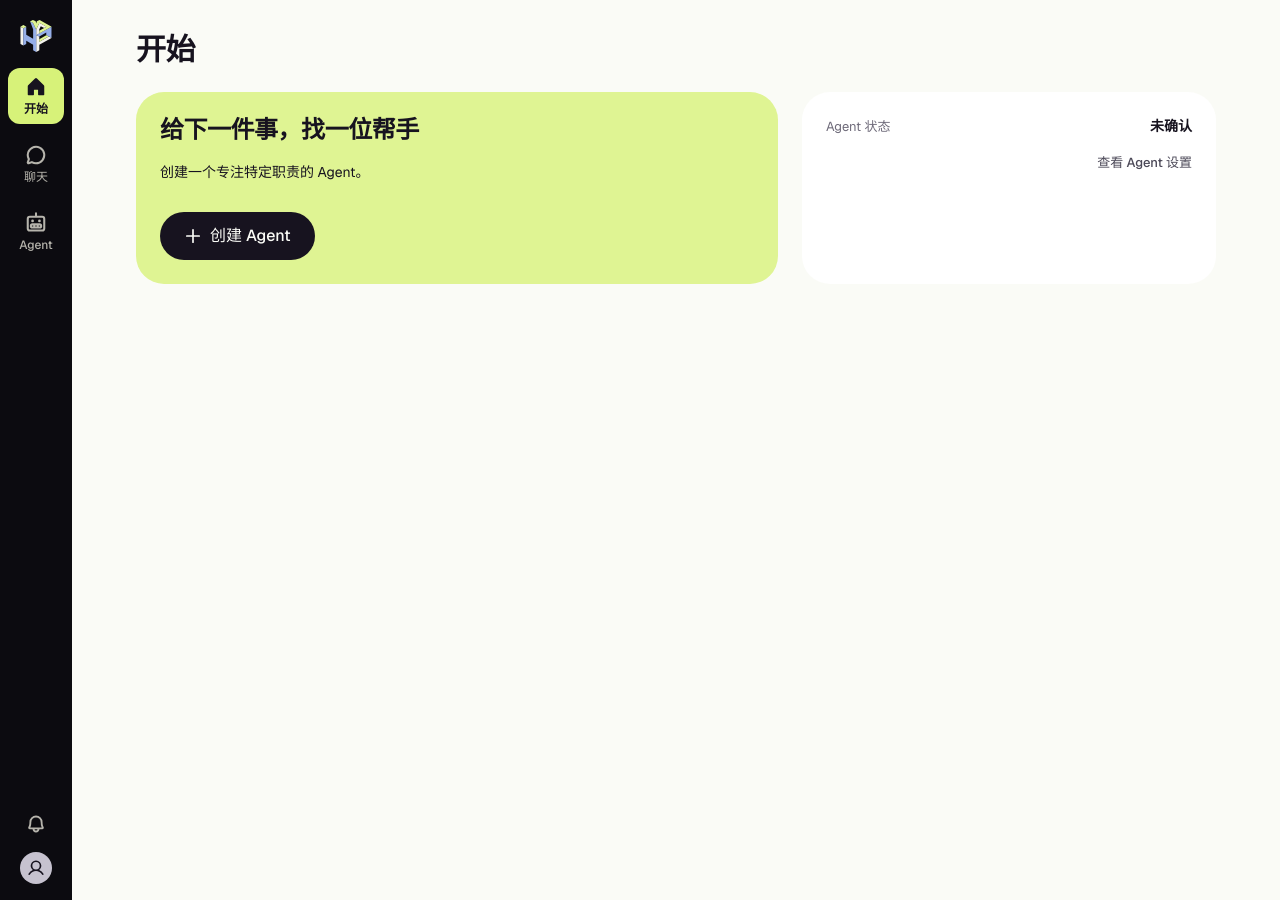
agents page create/stop wiring (implG2) › create opens the new Agent configuration after reloading the directory
The width and height of the screenshot is (1280, 900).
Click the button "Agent". click: (36, 232)
box: top-left (8, 204), bottom-right (64, 260)
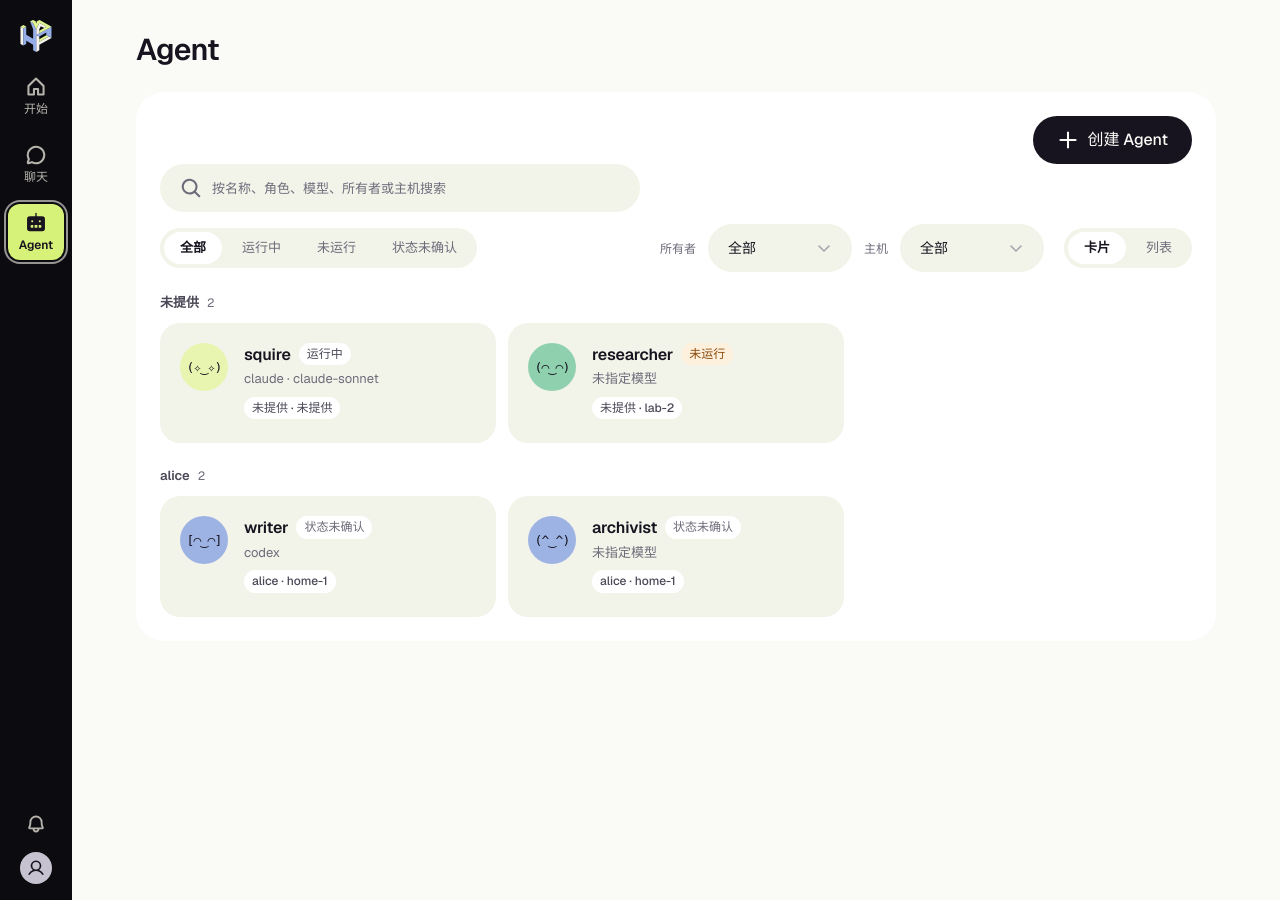
Check: the button with test id "contact-squire" is shown, box top-left (160, 323), bottom-right (496, 443)
Click the button "创建 Agent". click: (1113, 140)
box: top-left (1033, 116), bottom-right (1192, 164)
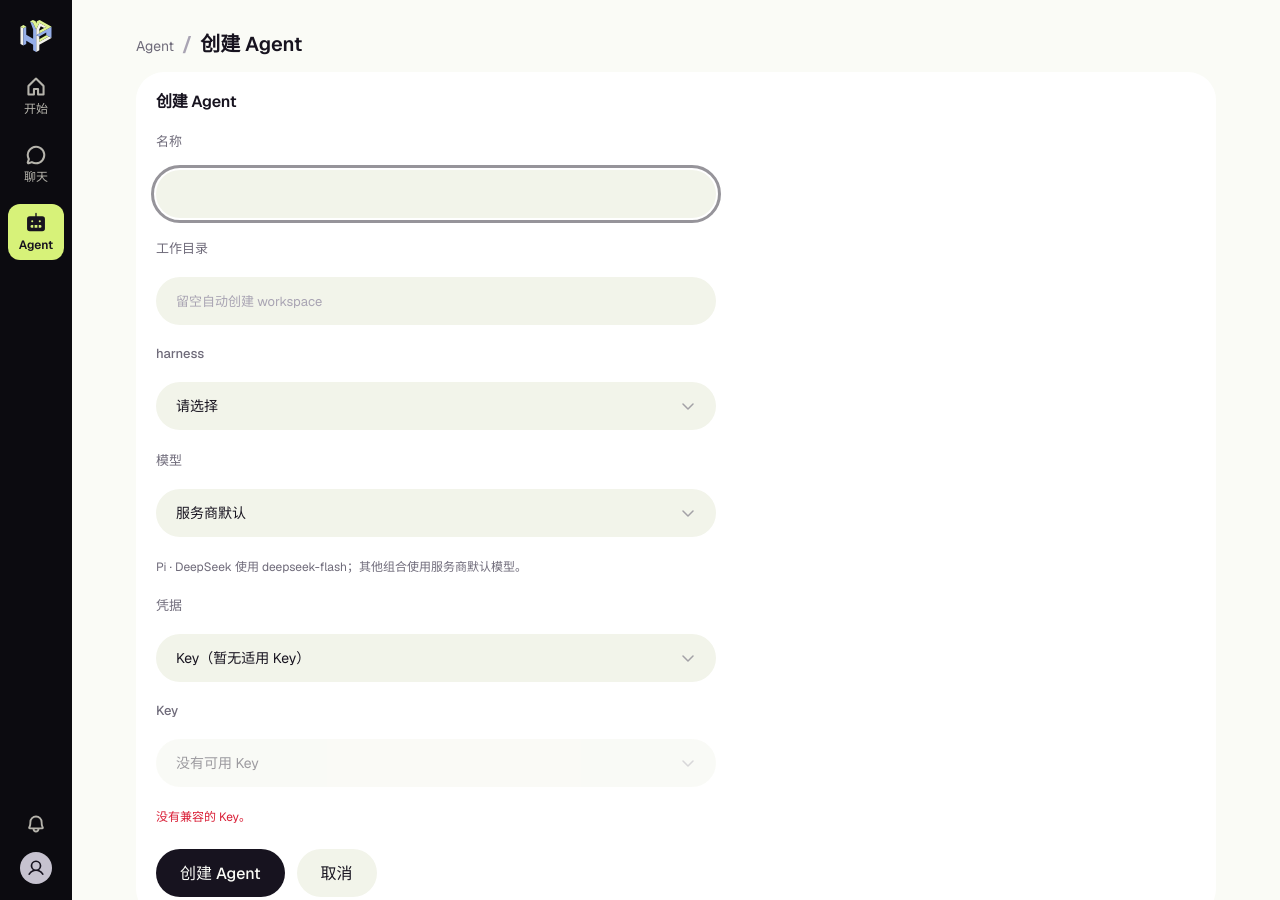
Type "worker" into the field labelled "名称". click: (436, 194)
box: top-left (156, 170), bottom-right (716, 218)
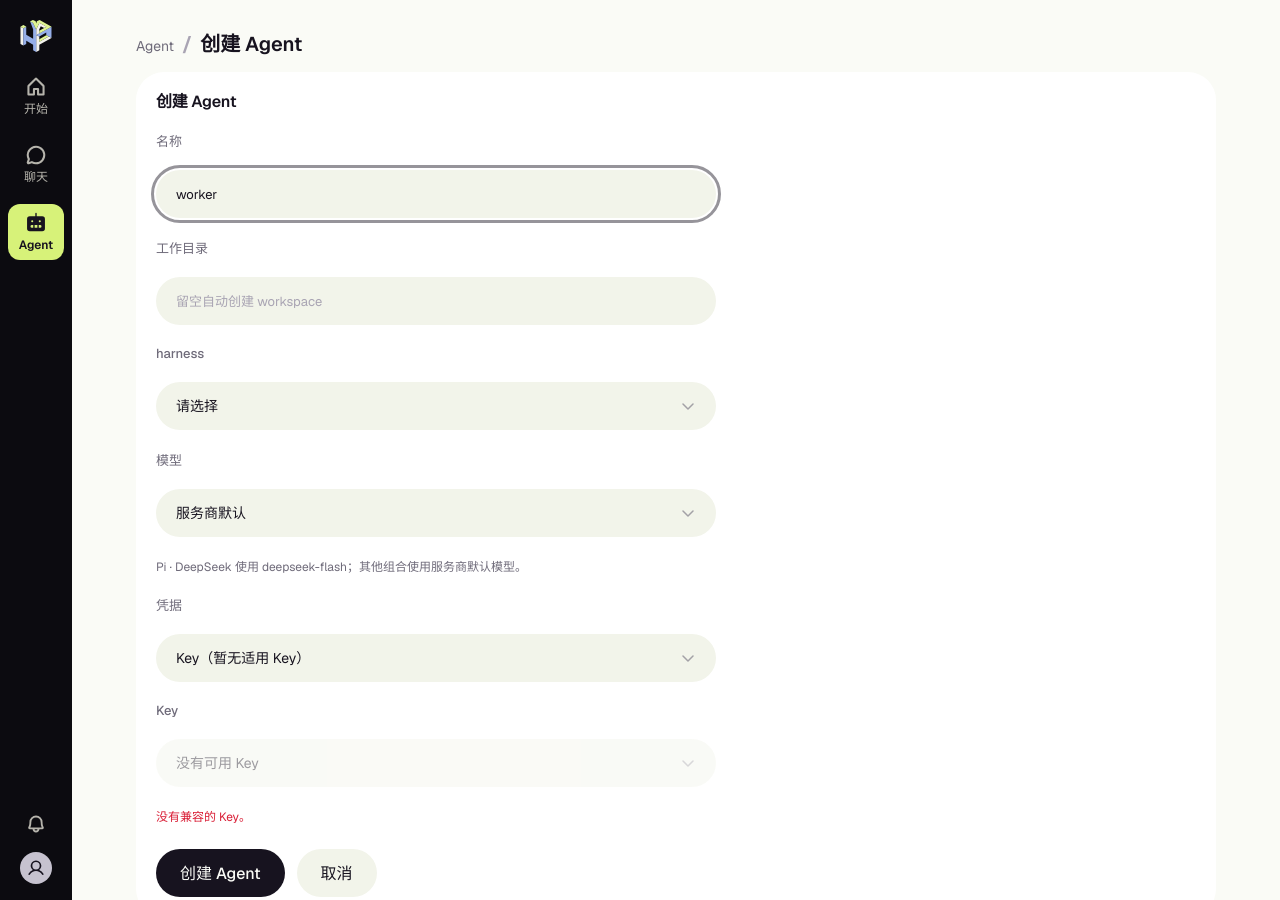
Click the dropdown named "harness". click: (197, 406)
box: top-left (156, 382), bottom-right (716, 430)
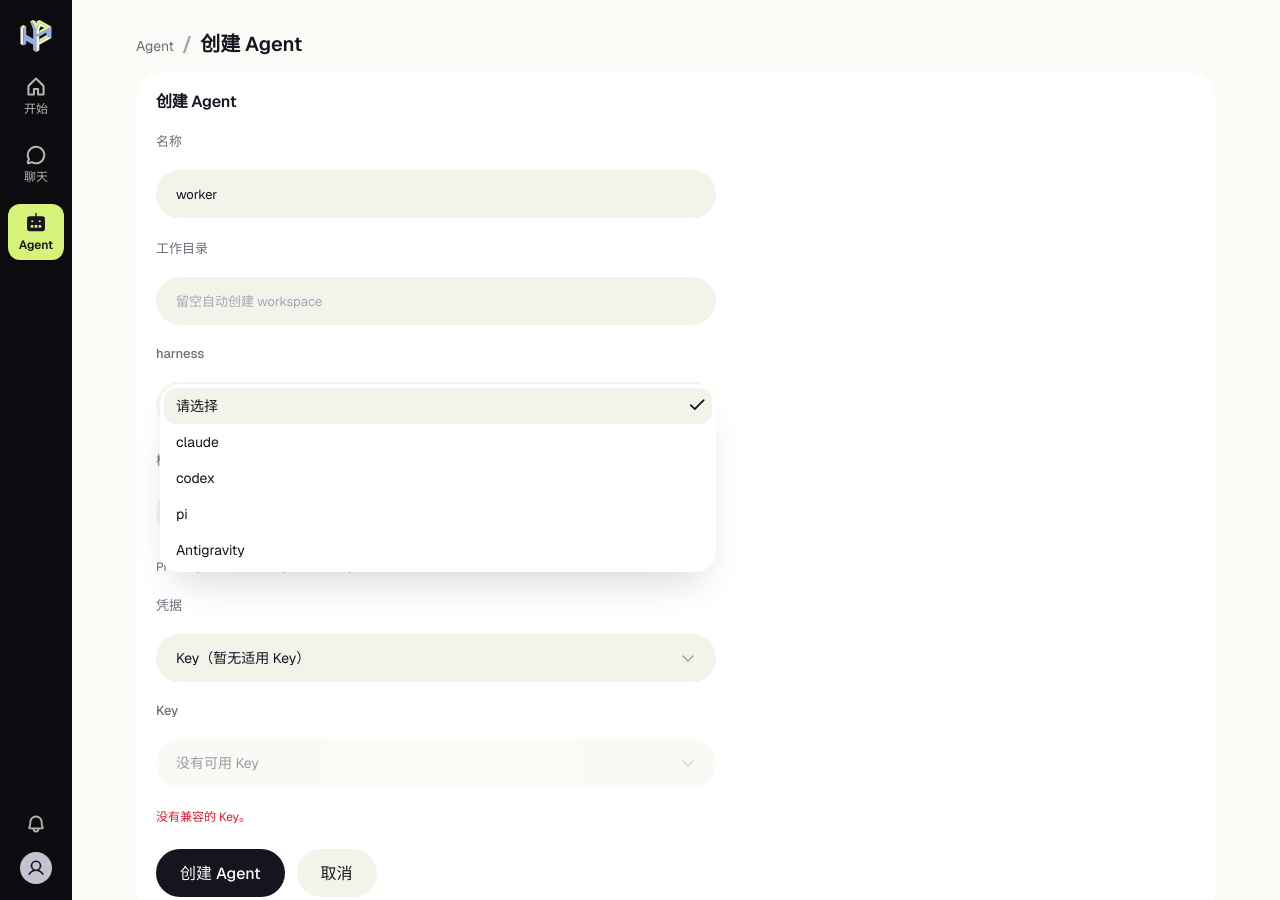
Click the option "claude". click: (197, 442)
box: top-left (176, 433), bottom-right (219, 451)
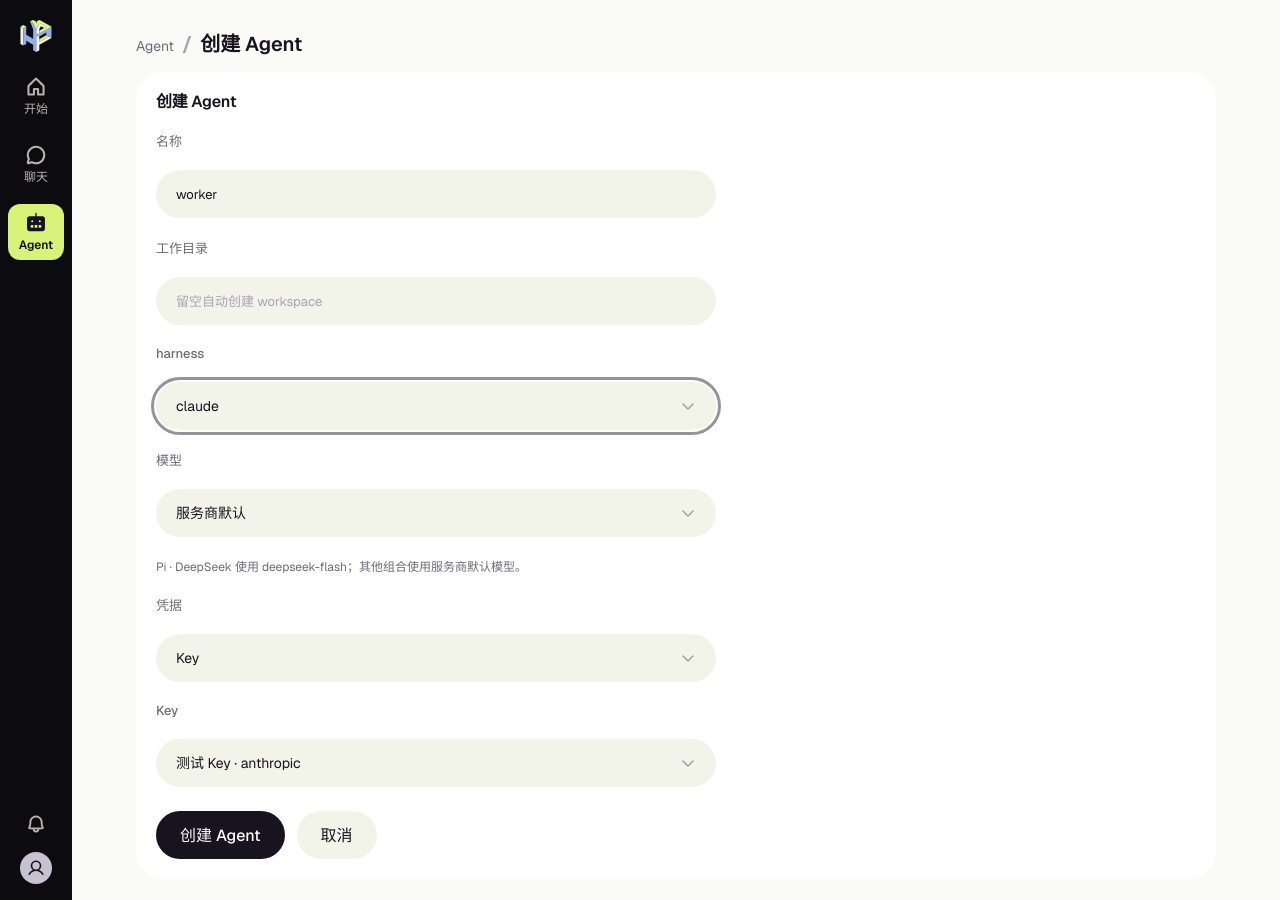
Click the button "创建 Agent". click: (220, 835)
box: top-left (156, 811), bottom-right (285, 859)
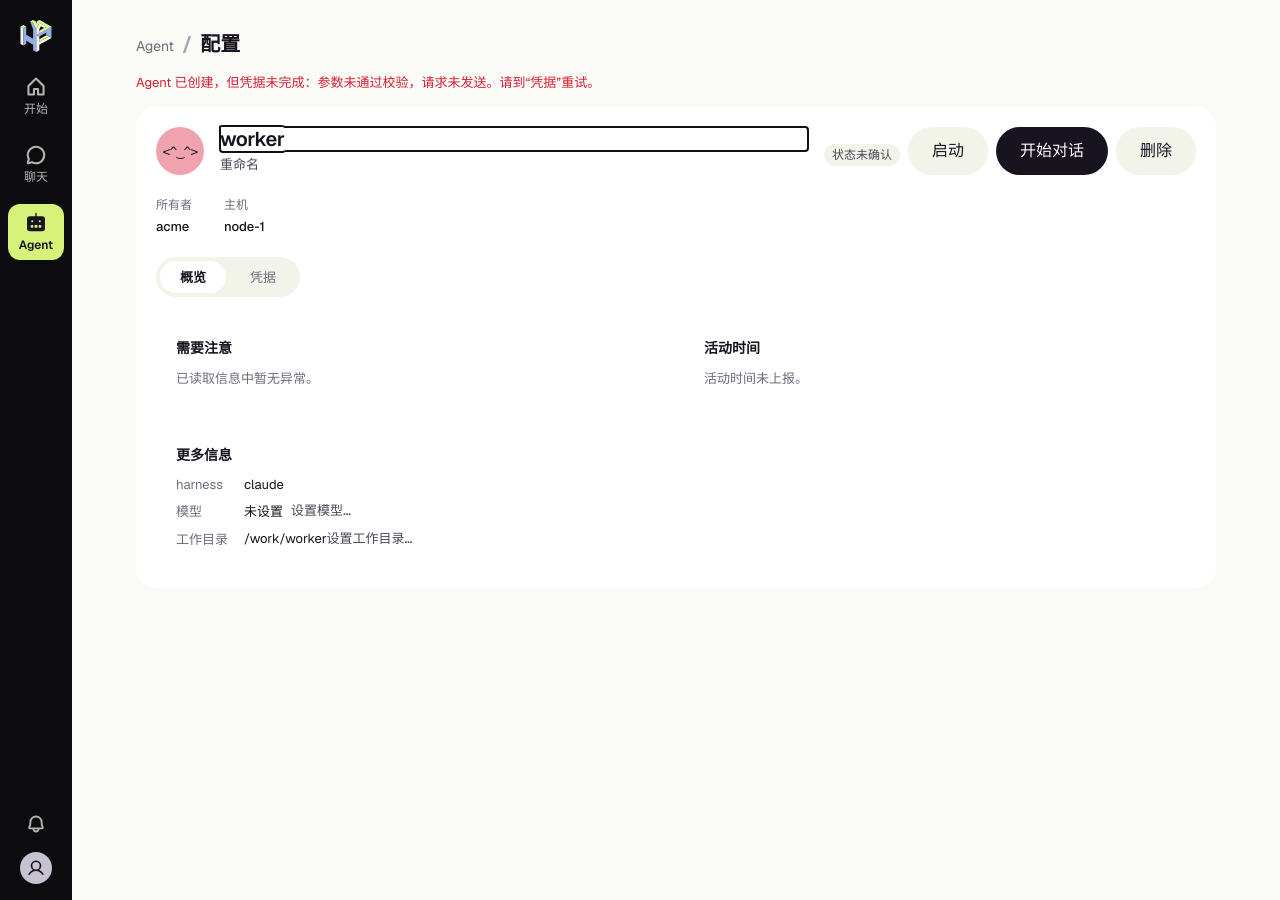
Check: the element with test id "agent-detail-panel" is shown, box top-left (136, 107), bottom-right (1216, 588)
